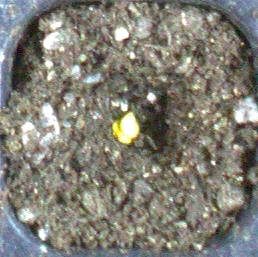pepper seed: (44, 46, 179, 191), (49, 43, 190, 181)
